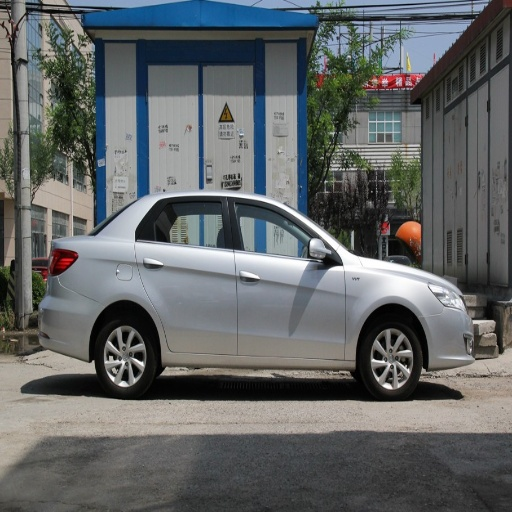back_right_door: (135, 198, 236, 354)
front_right_door: (231, 198, 343, 356)
